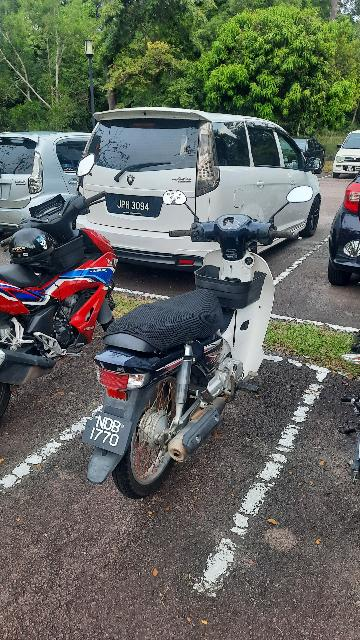License_Plate: (83, 408, 135, 458)
car: (80, 104, 326, 273), (1, 118, 135, 241)
motorcycle: (89, 181, 321, 502), (1, 142, 121, 438)
